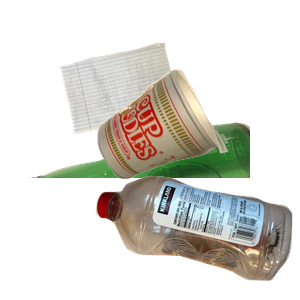glass: (23, 120, 263, 300)
paper: (56, 40, 229, 166)
plastic: (93, 173, 300, 300)
trash: (95, 67, 300, 238)
